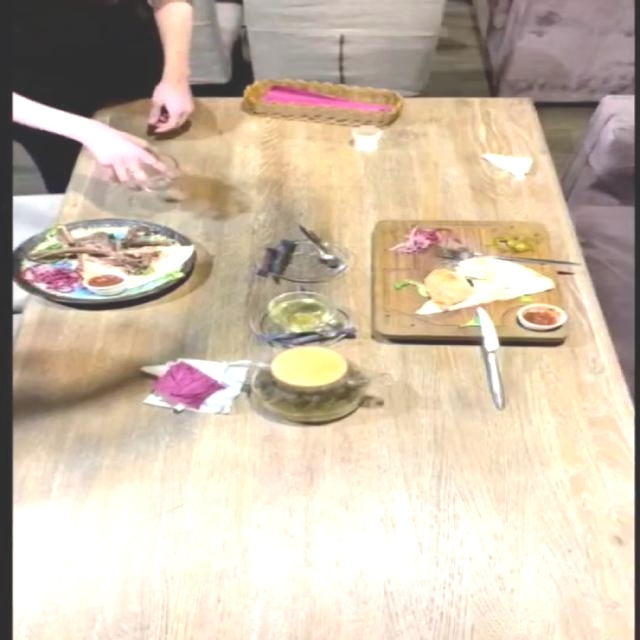meat: (366, 218, 566, 344), (6, 205, 218, 303)
tea: (258, 342, 362, 438)
